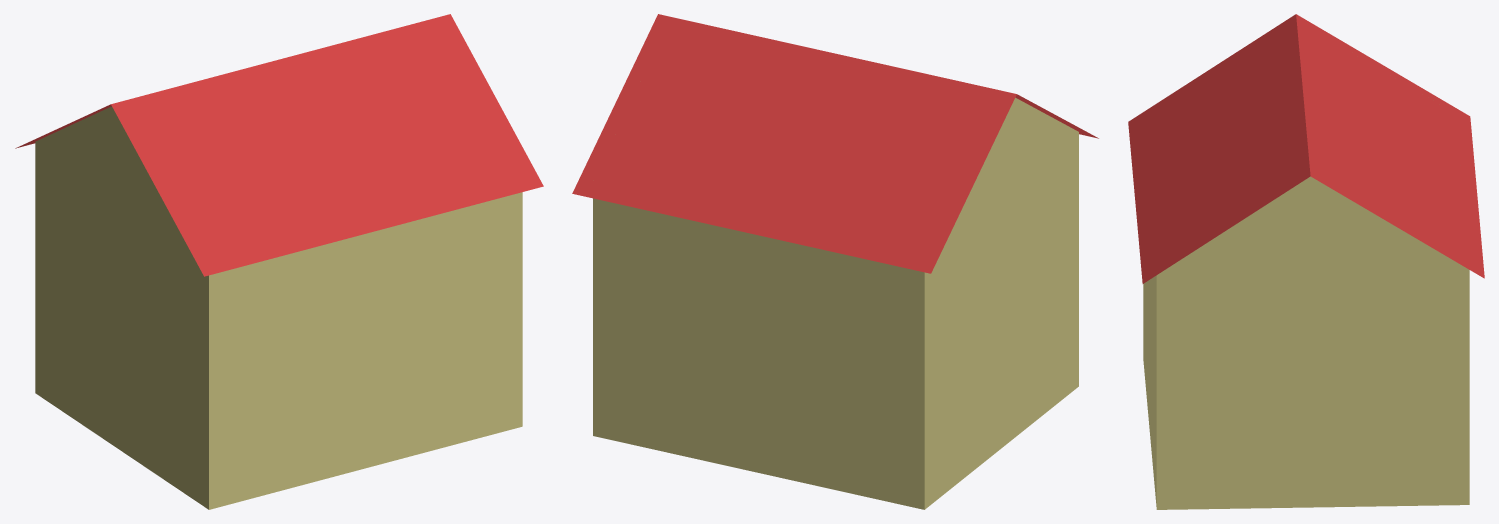
The picture shows the model from 3 angles, left to right: view 1: azimuth 30°, elevation 25°; view 2: azimuth 150°, elevation 25°; view 3: azimuth 270°, elevation 25°; orthographic projection. The views are drawn at different scales.
Bounding box in the file's own units: 13.53 × 12.15 × 12.68.
